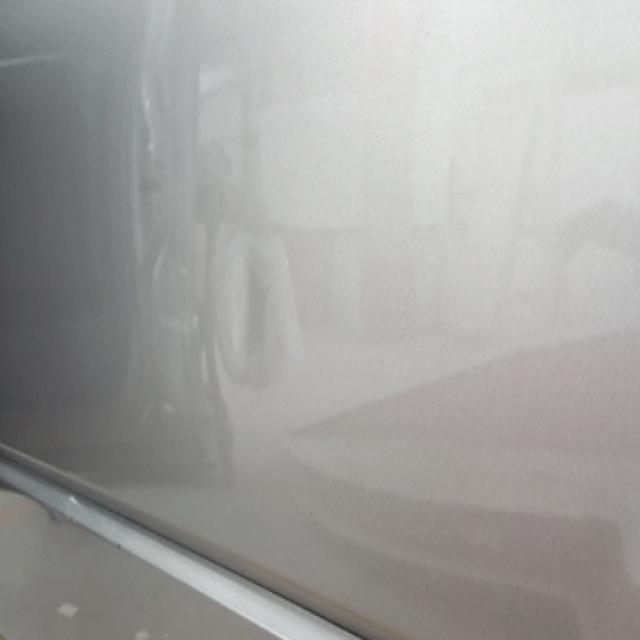dents: (193, 233, 294, 429)
